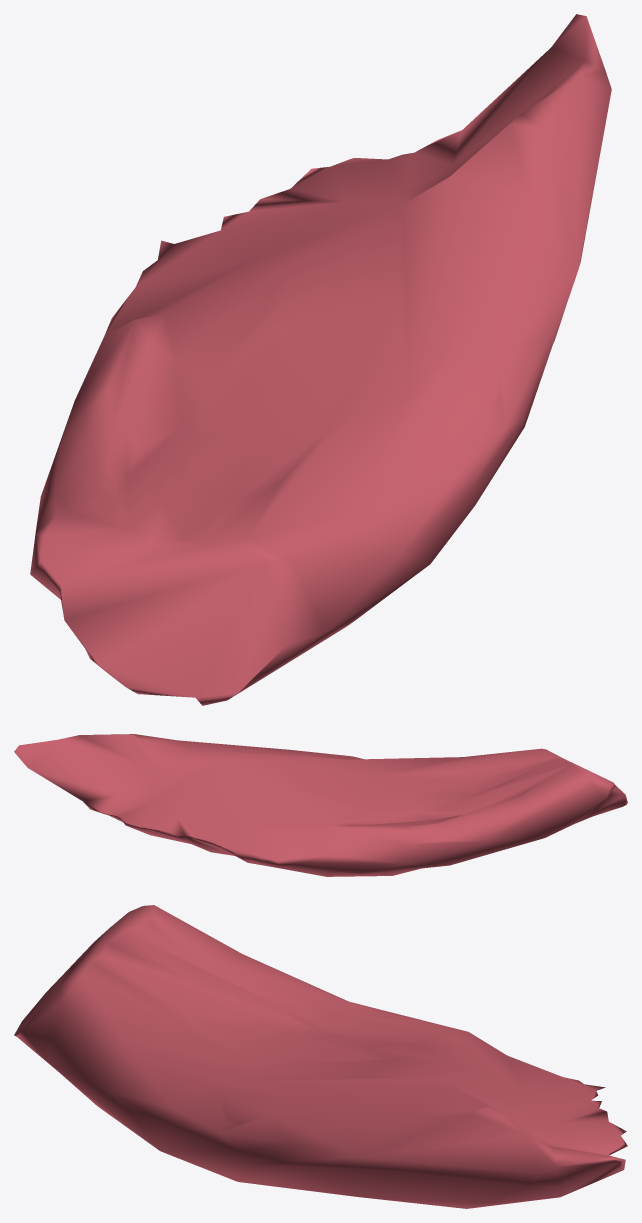
3 views of the same model, one above another, from view 1: azimuth 30°, elevation 25°; view 2: azimuth 150°, elevation 25°; view 3: azimuth 270°, elevation 25° (orthographic). The views are drawn at different scales.
Parts seen in each view (by area): view 1: 左侧头前直肌; view 2: 左侧头前直肌; view 3: 左侧头前直肌.
Part boxes in pixels (left/top/right/bottom): 左侧头前直肌: left=30, top=14, right=611, bottom=705; 左侧头前直肌: left=14, top=734, right=627, bottom=876; 左侧头前直肌: left=14, top=905, right=627, bottom=1208.
Size of the model in its own units: 0.0368 by 0.00986 by 0.03.
